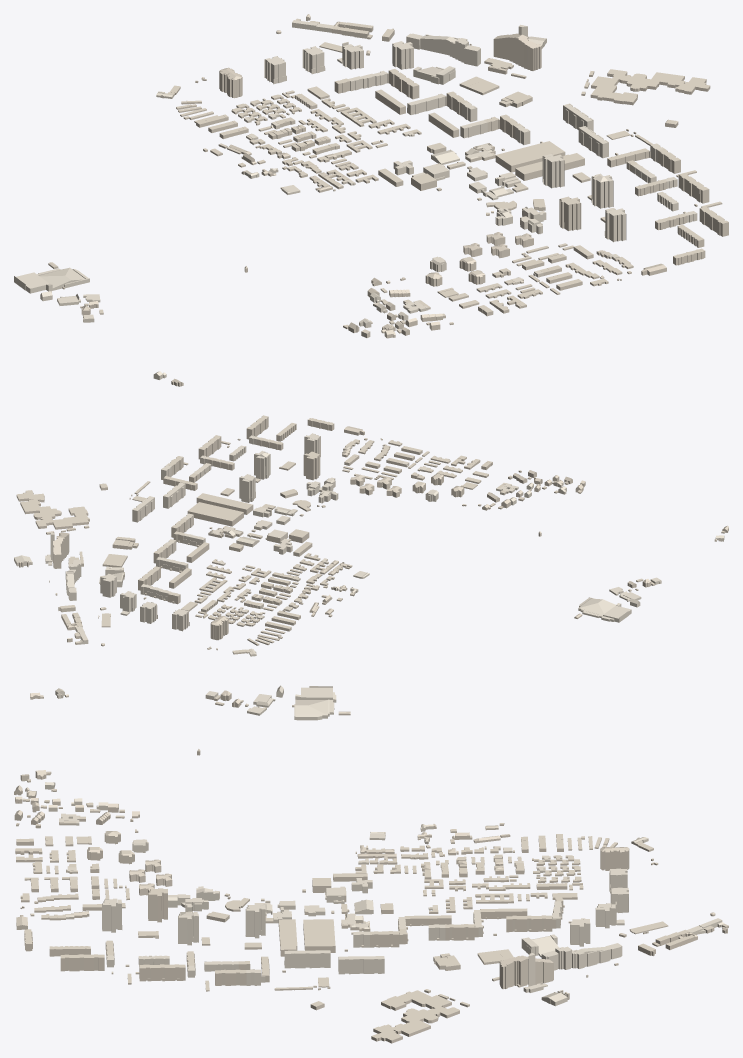
3 renders of one model, top to bottom at view 1: azimuth 30°, elevation 25°; view 2: azimuth 150°, elevation 25°; view 3: azimuth 270°, elevation 25°, orthographic. The views are drawn at different scales.
Size of the model in its own units: 1349 by 64.3 by 1153.
